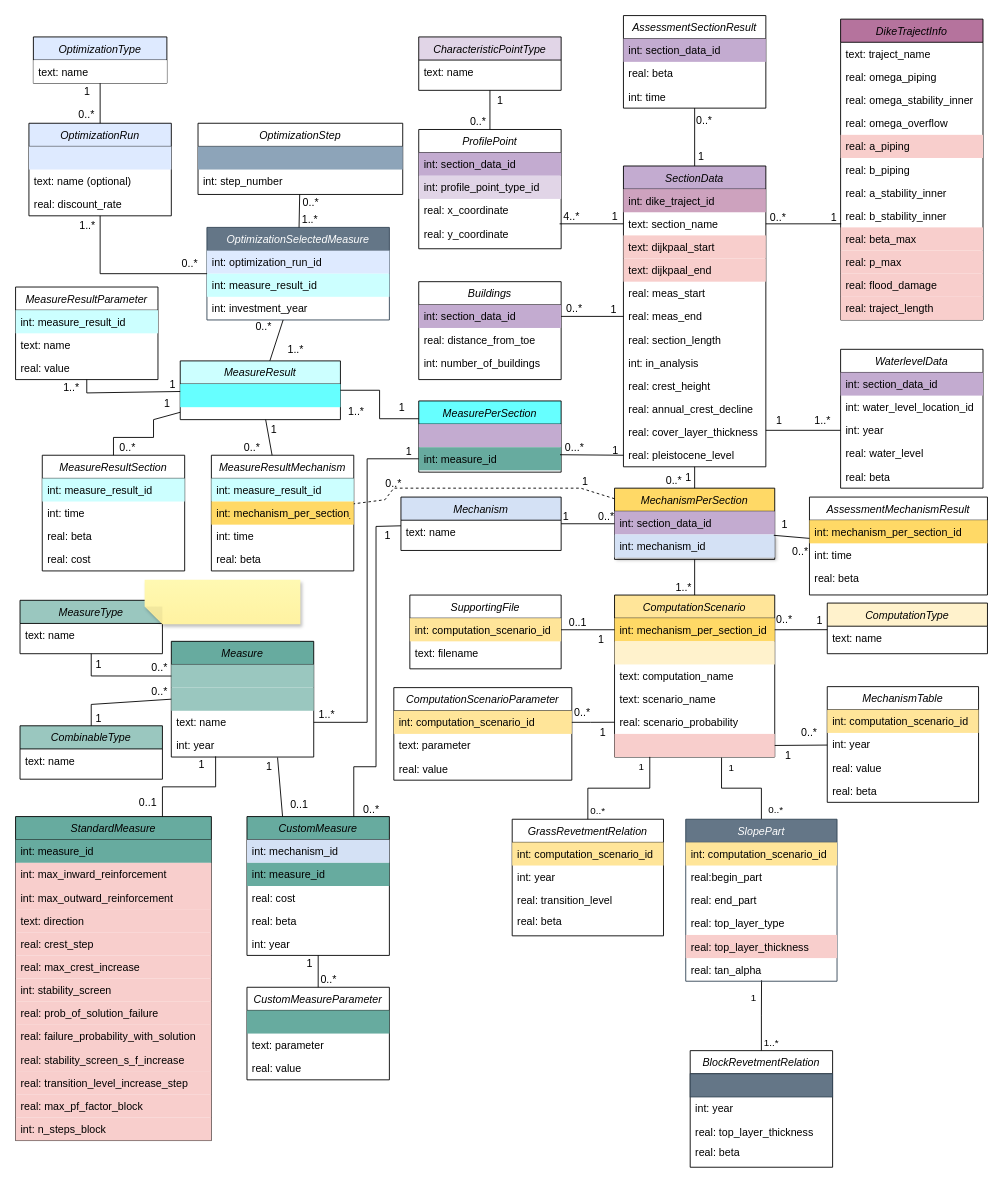
Some shapes in this 1003 by 1185 pixel diagram are drawn without their labels. Here are the shapes that lost their labels. From the top down, the centre of each, then its label:
At [99,157]: "int: optimization_type_id".
At [300,157]: "int: optimization_selected_measure_id".
At [260,395]: "int: measure_per_section_id".
At [489,435]: "int: section_id".
At [223,603]: "Measure can only be one: Default or Custom".
At [694,652]: "int: computation_type_id".
At [242,675]: "text: measure_type_id".
At [242,698]: "text: combinable_type_id".
At [694,745]: "real: probability_of_failure".
At [318,1021]: "int: custom_measure_id".
At [761,1085]: "int: slope_part_id".
